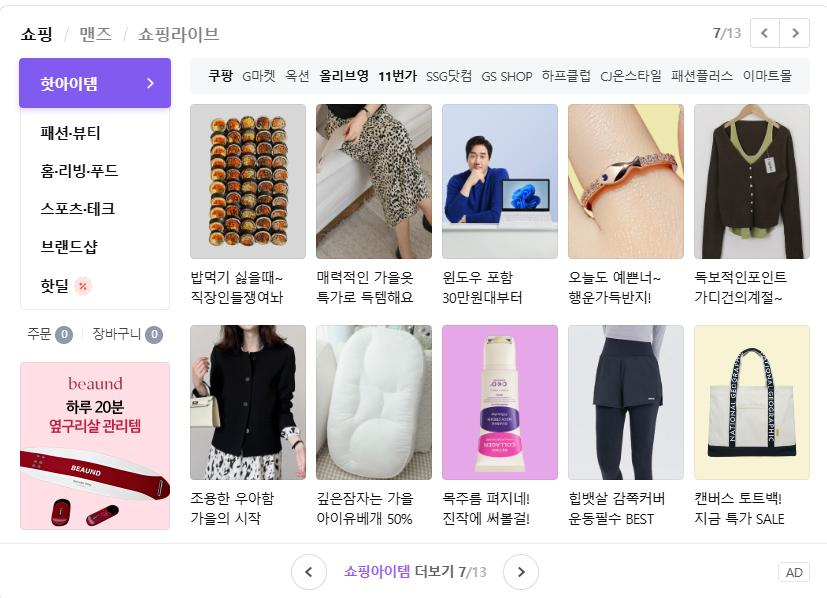button: (17, 57, 171, 108), (22, 201, 168, 238), (20, 272, 170, 308), (23, 240, 176, 270), (22, 161, 168, 190), (22, 119, 167, 148), (100, 320, 167, 348), (140, 24, 226, 42), (28, 321, 78, 346), (488, 58, 533, 83), (509, 554, 541, 587), (545, 69, 601, 87), (749, 14, 778, 47), (607, 71, 666, 87), (378, 67, 418, 88), (673, 70, 731, 84), (317, 66, 367, 81), (432, 69, 476, 84), (71, 28, 115, 43), (22, 27, 59, 44), (249, 64, 277, 83), (200, 69, 233, 85), (788, 23, 805, 48), (289, 70, 317, 85), (749, 72, 785, 82), (286, 556, 305, 574)
